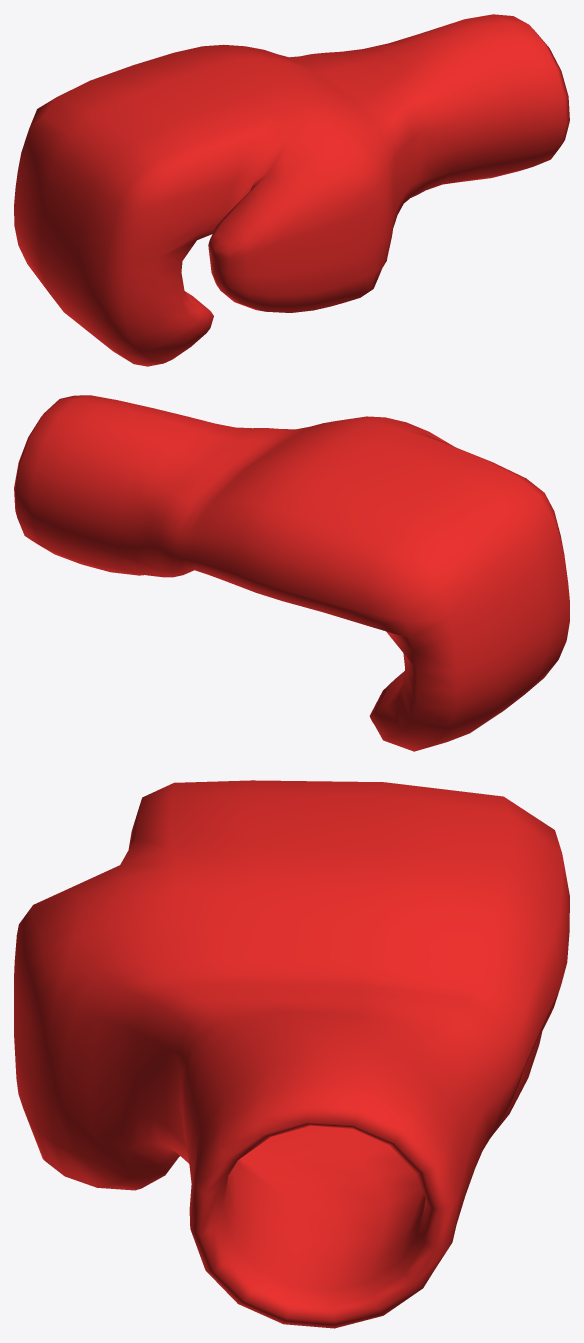
Rendered from bxglvsp.fbx.
3 views of the same model, one above another, from view 1: azimuth 30°, elevation 25°; view 2: azimuth 150°, elevation 25°; view 3: azimuth 270°, elevation 25° (orthographic). The views are drawn at different scales.
Visible parts, largest first — view 1: Cube.015; view 2: Cube.015; view 3: Cube.015.
Part boxes in pixels (box(x1,y1,x2,y2)): Cube.015: box(14, 14, 569, 366); Cube.015: box(14, 395, 569, 751); Cube.015: box(14, 780, 569, 1328).
Size of the model in its own units: 29.21 by 14.61 by 17.87.
